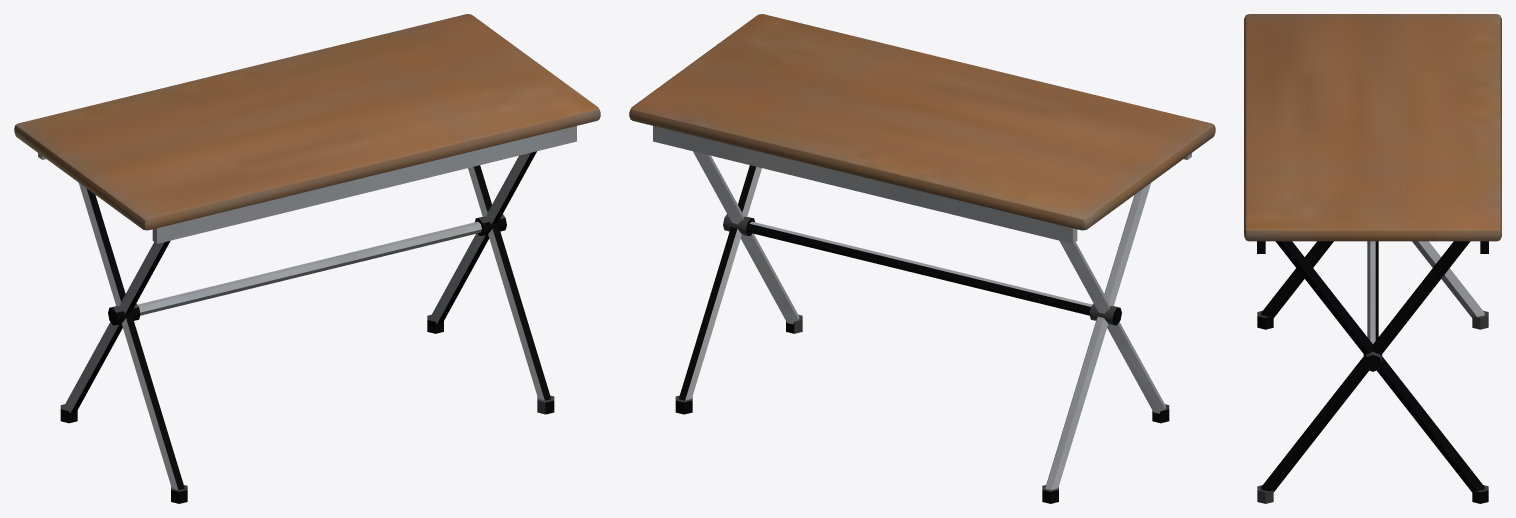
The model's file is table_folding.glb.
The picture shows the model from 3 angles, left to right: view 1: azimuth 30°, elevation 25°; view 2: azimuth 150°, elevation 25°; view 3: azimuth 270°, elevation 25°; orthographic projection. The views are drawn at different scales.
Parts seen in each view (by area): view 1: table_folding; view 2: table_folding; view 3: table_folding.
Boxes of the visible parts, <box> form: table_folding: <box>14,14,600,503</box>; table_folding: <box>629,14,1215,503</box>; table_folding: <box>1244,14,1501,503</box>.
Size of the model in its own units: 1.2 by 0.75 by 0.6.
Materials: 1 (1 with a texture image).
